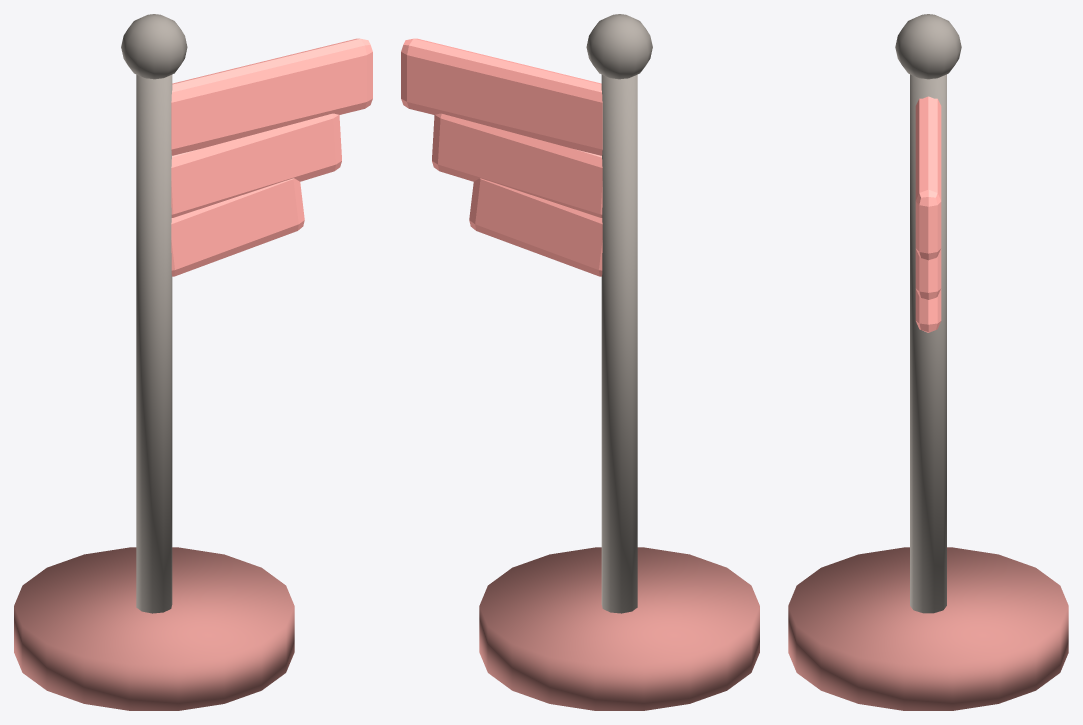
The model's file is goal-flag.glb.
The picture shows the model from 3 angles, left to right: view 1: azimuth 30°, elevation 25°; view 2: azimuth 150°, elevation 25°; view 3: azimuth 270°, elevation 25°; orthographic projection.
Visible parts, largest first — view 1: mesh_goal_flag_base, mesh_goal_flag_cloth, mesh_goal_flag_pole; view 2: mesh_goal_flag_base, mesh_goal_flag_cloth, mesh_goal_flag_pole; view 3: mesh_goal_flag_base, mesh_goal_flag_pole, mesh_goal_flag_cloth.
Boxes of the visible parts, box(x1,y1,x2,y2) form: mesh_goal_flag_base: box(14, 547, 294, 710); mesh_goal_flag_cloth: box(171, 38, 372, 276); mesh_goal_flag_pole: box(121, 14, 187, 613); mesh_goal_flag_base: box(479, 547, 759, 710); mesh_goal_flag_cloth: box(401, 38, 602, 276); mesh_goal_flag_pole: box(586, 14, 652, 613); mesh_goal_flag_base: box(788, 547, 1068, 710); mesh_goal_flag_pole: box(895, 14, 961, 613); mesh_goal_flag_cloth: box(915, 96, 941, 332).
Size of the model in its own units: 0.5271 by 0.95 by 0.38.
